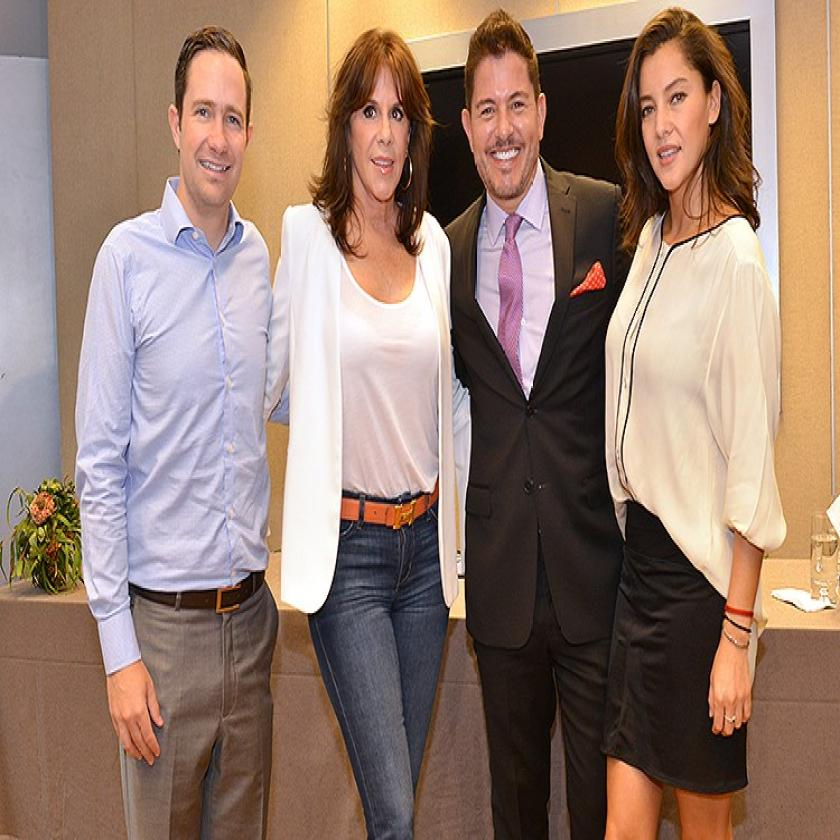Sin_casco: (623, 0, 758, 204), (321, 0, 424, 225), (160, 20, 272, 216), (458, 0, 550, 188)
